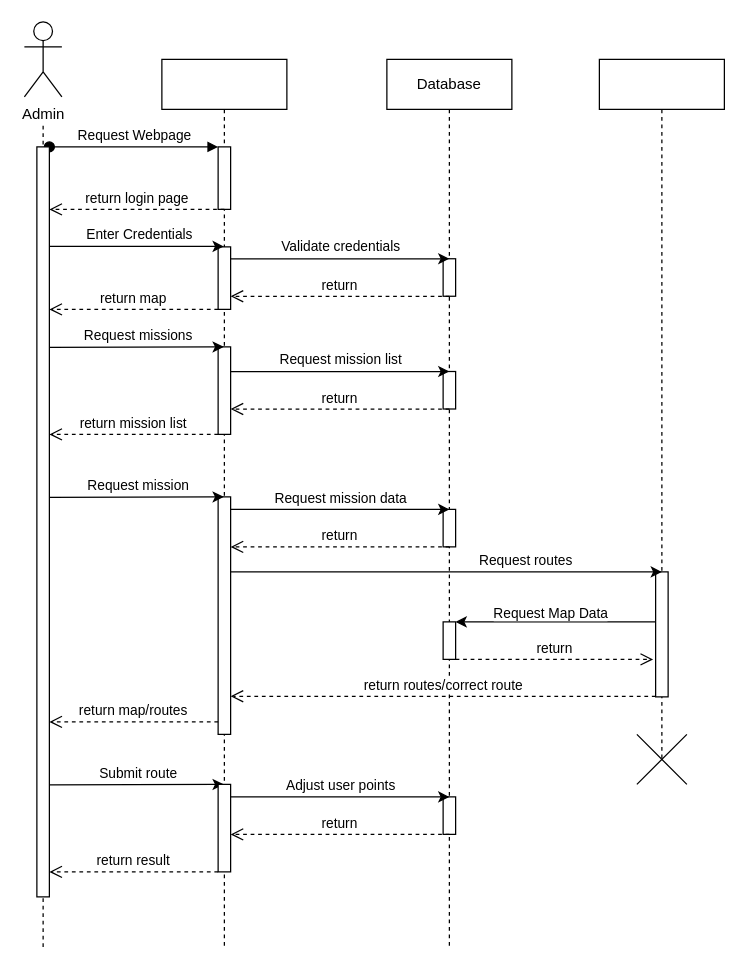
The diagram is 746 pixels wide and 970 high, and some of its shapes have lost their labels. Each missing label, with the box of its shape:
Route Finder: (598, 58, 724, 759)
Server: (161, 58, 287, 947)
